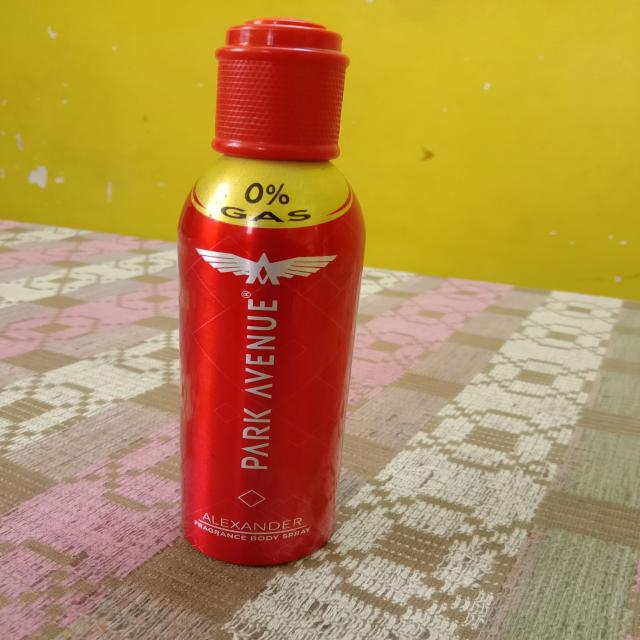deodorant: (170, 23, 367, 555)
